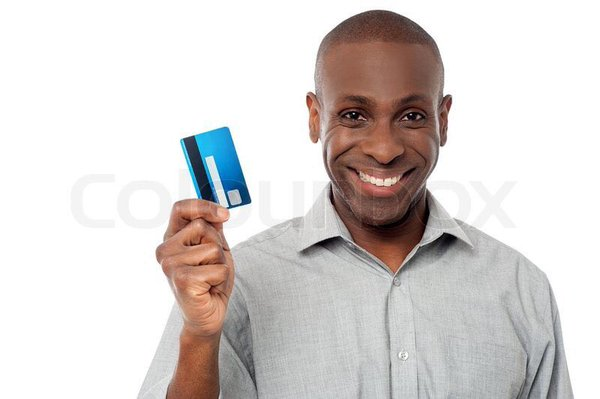tarjeta: (180, 125, 253, 212)
